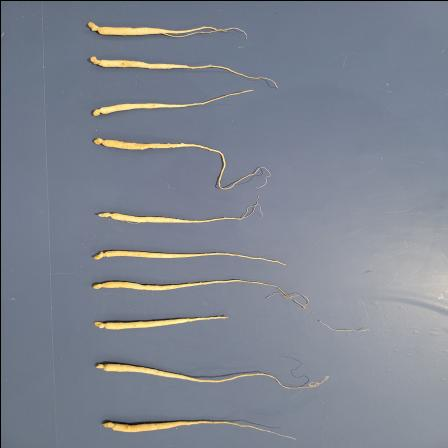Ginseng: (90, 132, 274, 188), (91, 360, 330, 392), (88, 278, 315, 310), (86, 52, 278, 86), (90, 86, 256, 118), (96, 194, 264, 224), (96, 418, 300, 439), (92, 247, 286, 266), (82, 18, 248, 40), (90, 313, 230, 332)
head: (97, 210, 115, 220), (86, 21, 101, 33), (100, 420, 116, 430), (93, 250, 109, 260), (88, 54, 101, 66), (93, 320, 109, 329), (92, 136, 106, 146), (92, 106, 106, 116), (91, 282, 107, 290), (94, 362, 106, 370)
